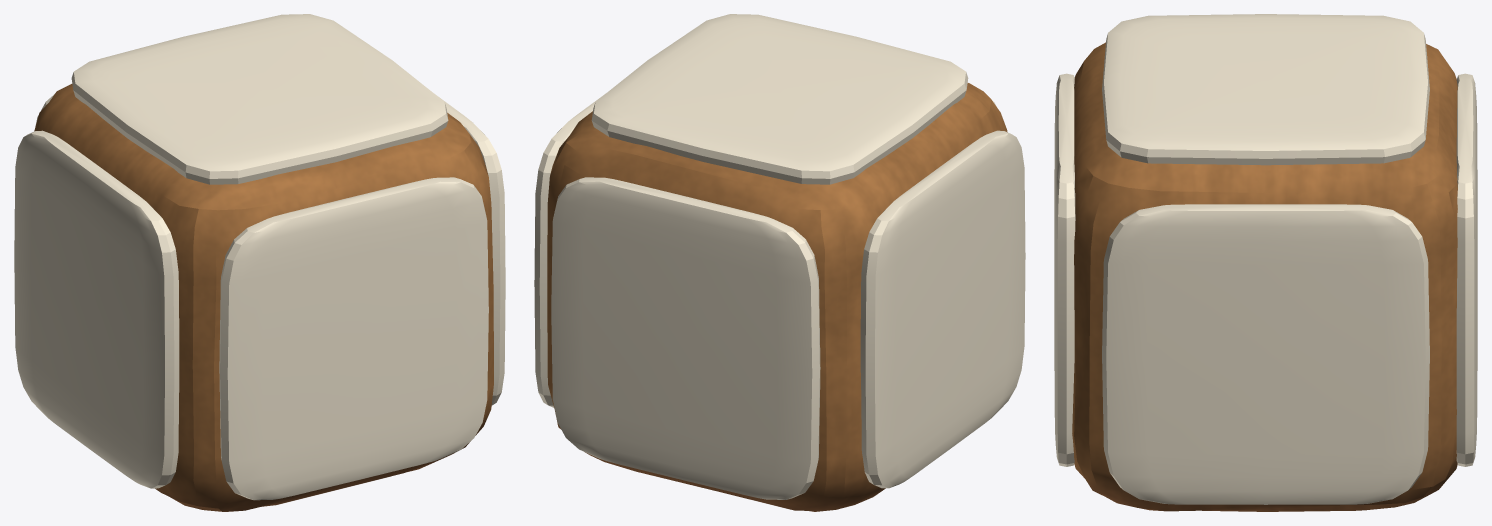
The model's file is hybrid_block.glb.
The picture shows the model from 3 angles, left to right: view 1: azimuth 30°, elevation 25°; view 2: azimuth 150°, elevation 25°; view 3: azimuth 270°, elevation 25°; orthographic projection. The views are drawn at different scales.
Visible parts, largest first — view 1: Front, Left, Top, Cube, Right; view 2: Back, Left, Top, Cube, Right; view 3: Right, Top, Cube, Back, Front.
Part boxes in pixels (x1,y1,x2,y2): Front: [219, 177, 488, 500]; Left: [14, 130, 179, 488]; Top: [71, 14, 448, 184]; Cube: [34, 84, 493, 511]; Right: [435, 94, 505, 405]; Back: [551, 177, 820, 499]; Left: [860, 130, 1025, 488]; Top: [591, 14, 968, 184]; Cube: [547, 83, 1007, 511]; Right: [534, 93, 605, 407]; Right: [1102, 204, 1429, 504]; Top: [1102, 14, 1429, 165]; Cube: [1072, 42, 1457, 511]; Back: [1456, 73, 1477, 466]; Front: [1054, 73, 1075, 466].
Size of the model in its own units: 0.826 by 0.8136 by 0.826.
Materials: 2 (1 with a texture image).
